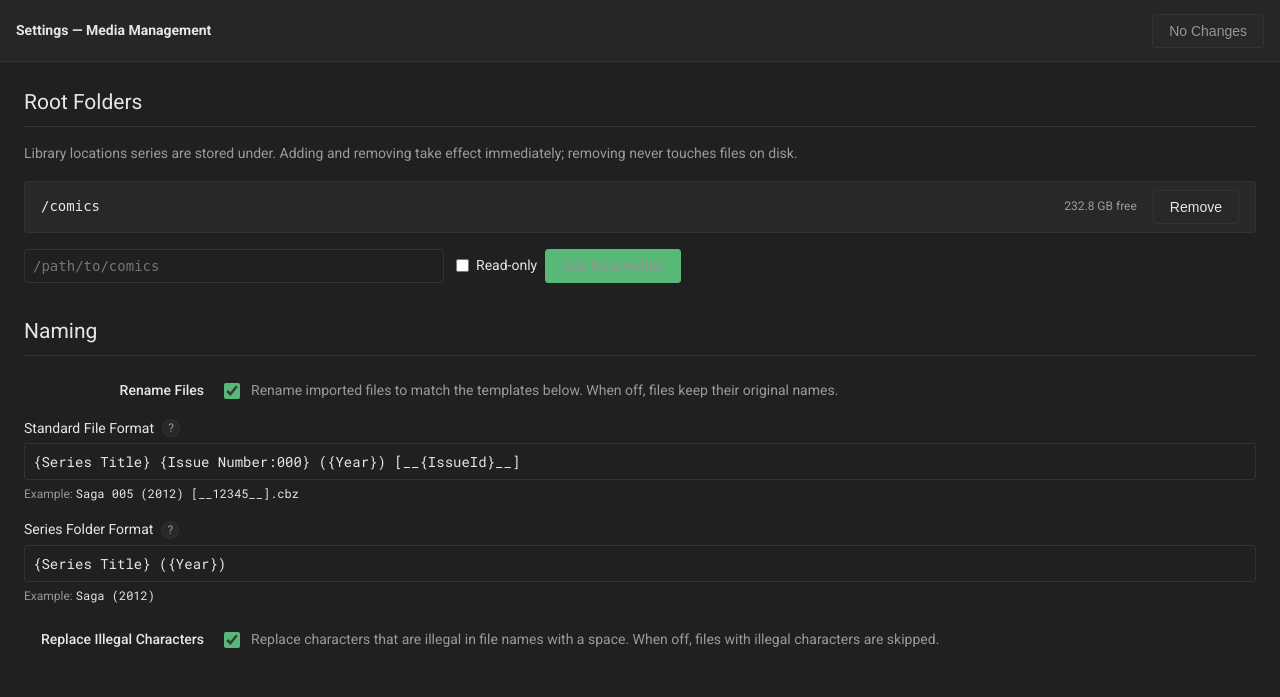
Test: FRG-UI-012: token help popover › FRG-UI-012 — the `?` popover renders every token from the shared vocabulary
Click the button named "token help": [171, 428] box x1=162 y1=419 x2=180 y2=437
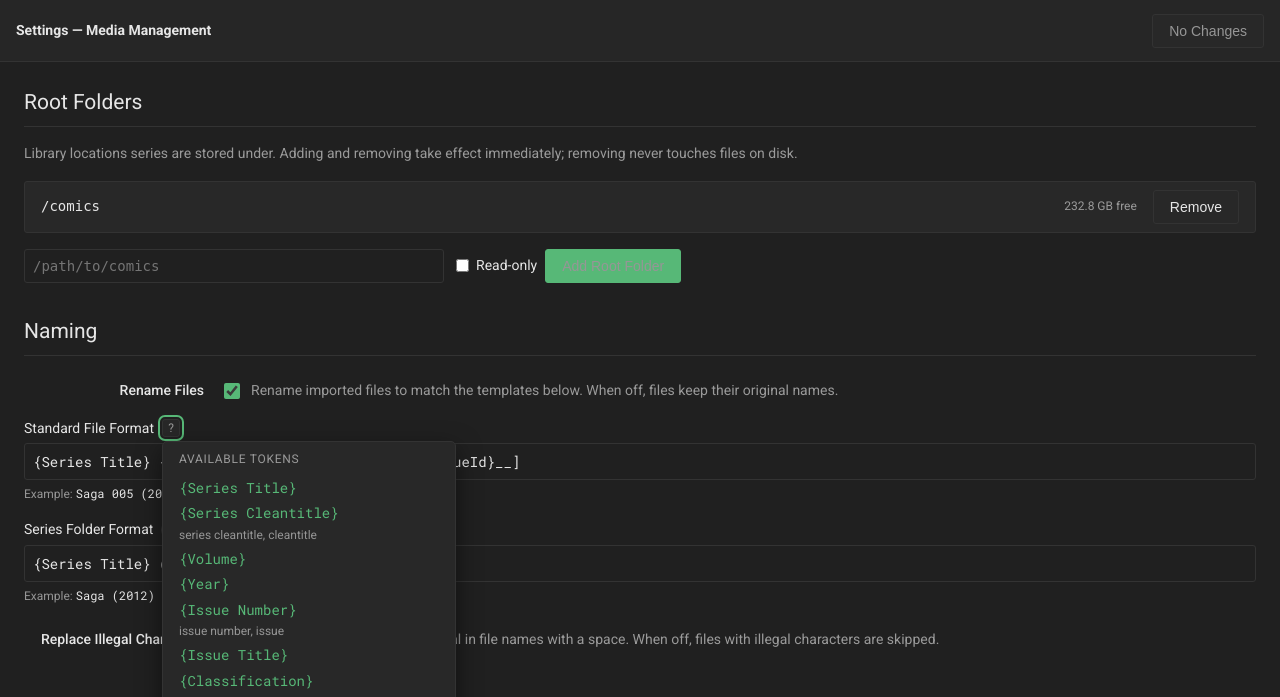
Now the text "{Series Title}" is shown, box x1=179 y1=478 x2=297 y2=497
Now the text "{Issue Number}" is shown, box x1=179 y1=600 x2=297 y2=619
Now the text "issue number, issue" is shown, box x1=179 y1=624 x2=284 y2=638
